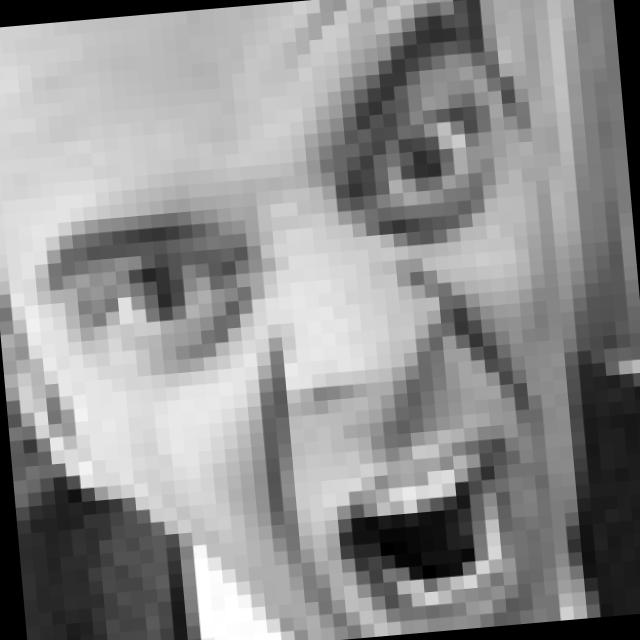angry: (15, 15, 538, 640)
